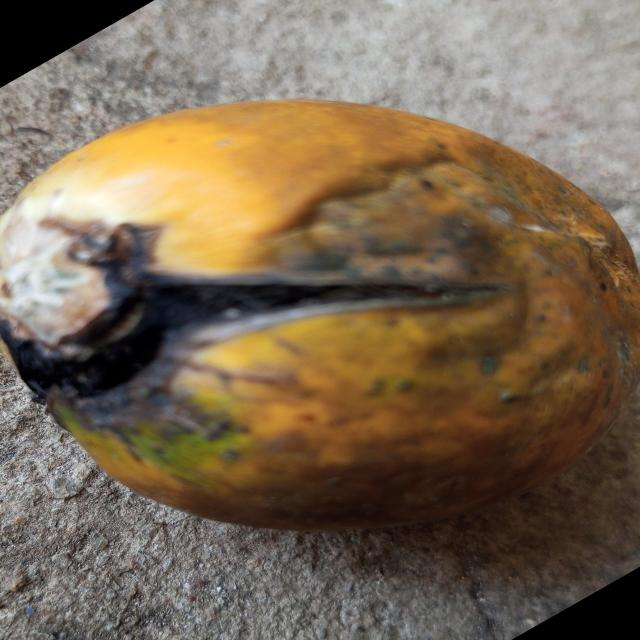damaged: (0, 99, 640, 537)
